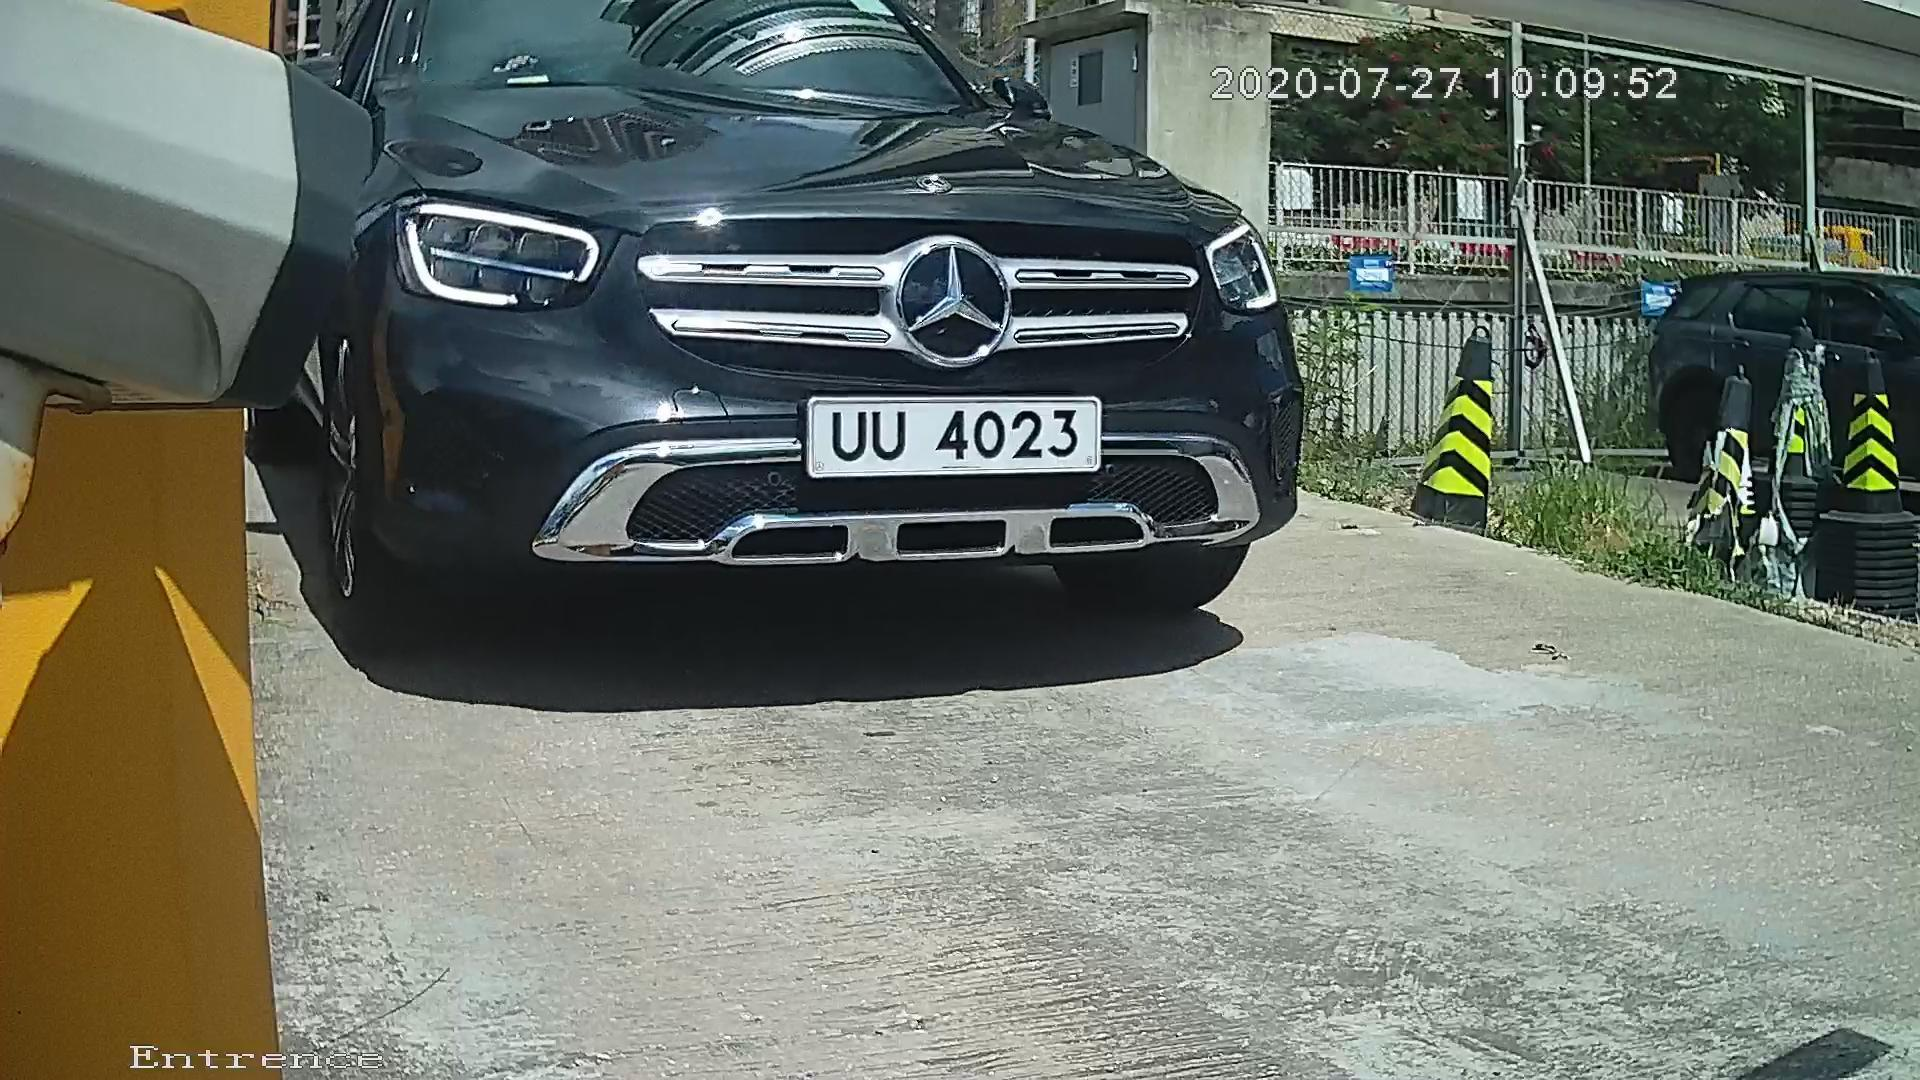Car: (103, 39, 1372, 695)
License Plate: (798, 377, 1123, 502)
